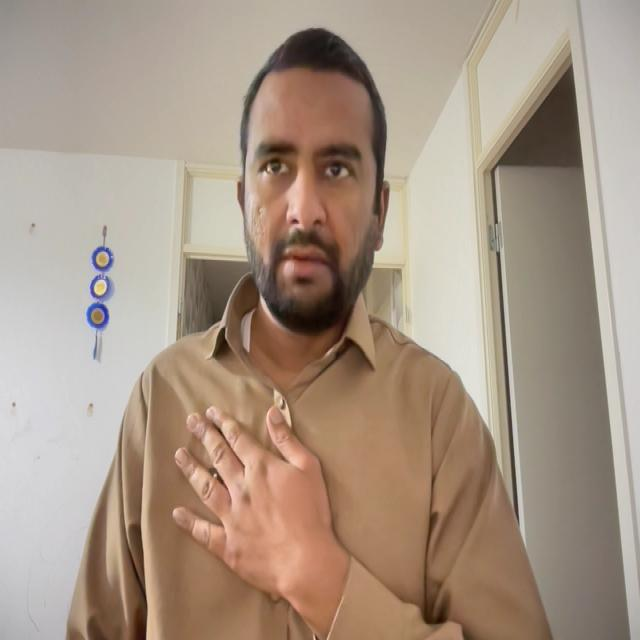Please: (164, 384, 373, 609)
